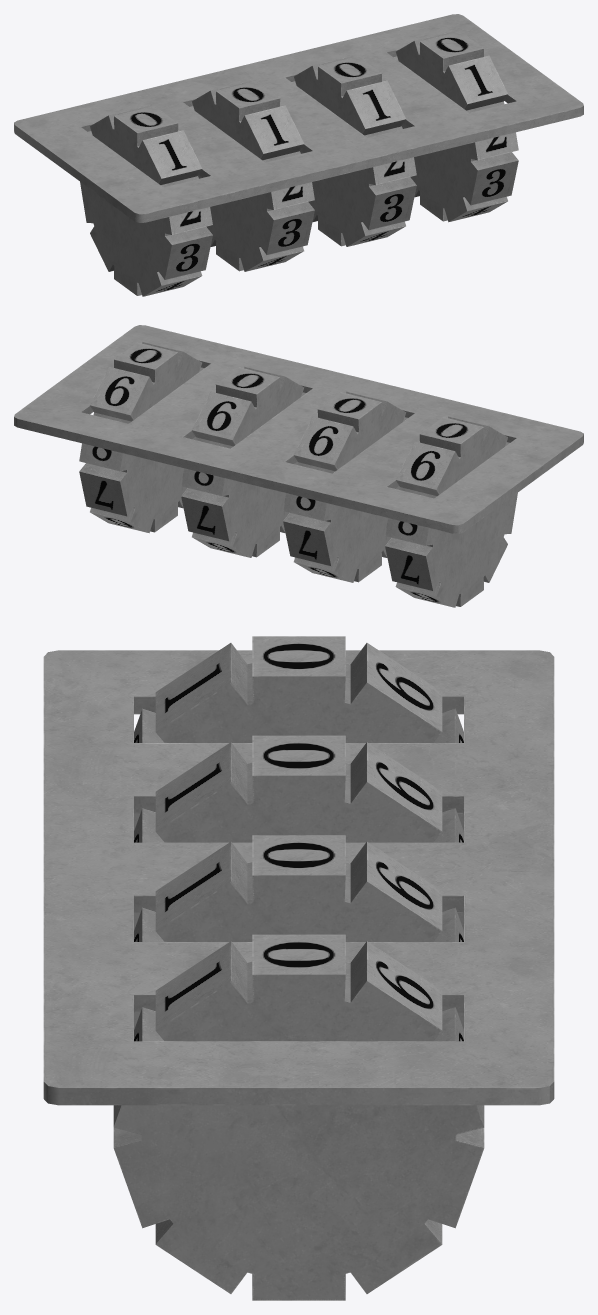
The model's file is Lock23.glb.
3 views of the same model, one above another, from view 1: azimuth 30°, elevation 25°; view 2: azimuth 150°, elevation 25°; view 3: azimuth 270°, elevation 25° (orthographic). The views are drawn at different scales.
Parts seen in each view (by area): view 1: Plane_008, Circle_003, Circle_005, Circle_006, Circle_007; view 2: Plane_008, Circle_003, Circle_005, Circle_006, Circle_007; view 3: Plane_008, Circle_007, Circle_005, Circle_003, Circle_006.
Boxes of the visible parts, x1,y1,x2,y2 form: Plane_008: (14,14,583,222); Circle_003: (80,105,212,296); Circle_005: (190,80,314,271); Circle_006: (292,55,416,246); Circle_007: (394,31,518,222); Plane_008: (14,325,583,533); Circle_003: (385,416,517,607); Circle_005: (283,391,407,582); Circle_006: (181,366,305,557); Circle_007: (79,342,203,533); Plane_008: (43,650,554,1105); Circle_007: (113,934,484,1300); Circle_005: (134,735,463,930); Circle_003: (134,636,463,830); Circle_006: (134,835,463,1029).
Size of the model in its own units: 0.3287 by 0.1141 by 0.1621.
1 material, 1 textured.
